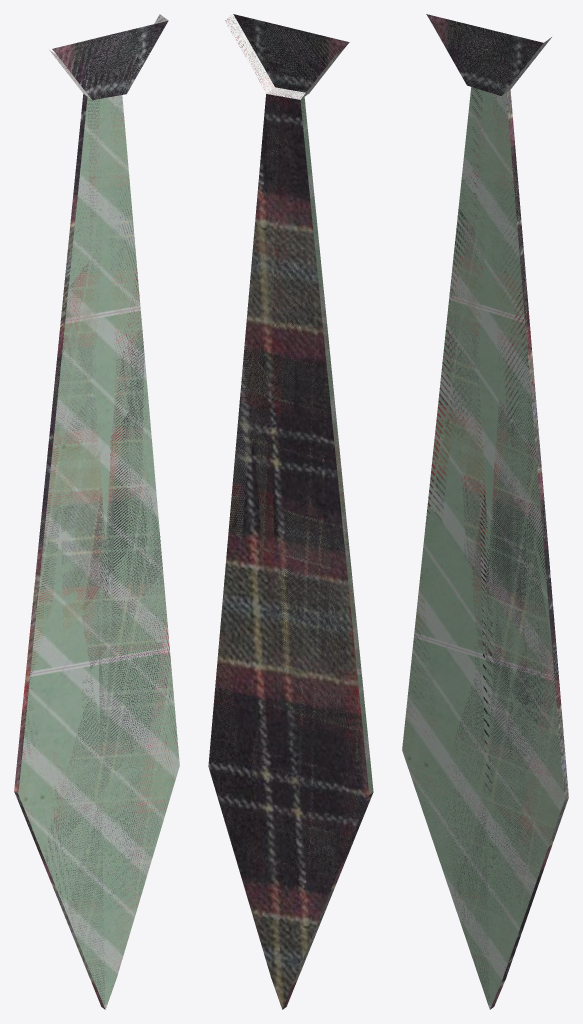
File: necktie1.dae
3 views of the same model, side by side, from view 1: azimuth 30°, elevation 25°; view 2: azimuth 150°, elevation 25°; view 3: azimuth 330°, elevation 25° (orthographic).
Parts seen in each view (by area): view 1: group_0 (×3); view 2: group_0 (×4); view 3: group_0 (×3).
Part boxes in pixels (left/top/right/bottom): group_0 (×3): left=14, top=20, right=179, bottom=1009; group_0 (×4): left=208, top=14, right=373, bottom=1009; group_0 (×3): left=402, top=14, right=568, bottom=1009.
Size of the model in its own units: 5.86 by 0.5669 by 33.95.
